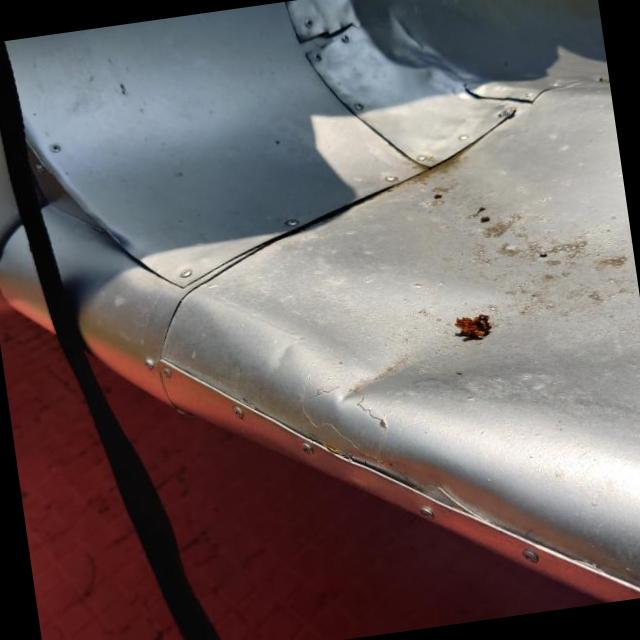Crack: (293, 12, 362, 55), (463, 83, 535, 105)
Dent: (303, 255, 603, 499), (353, 0, 524, 83)
